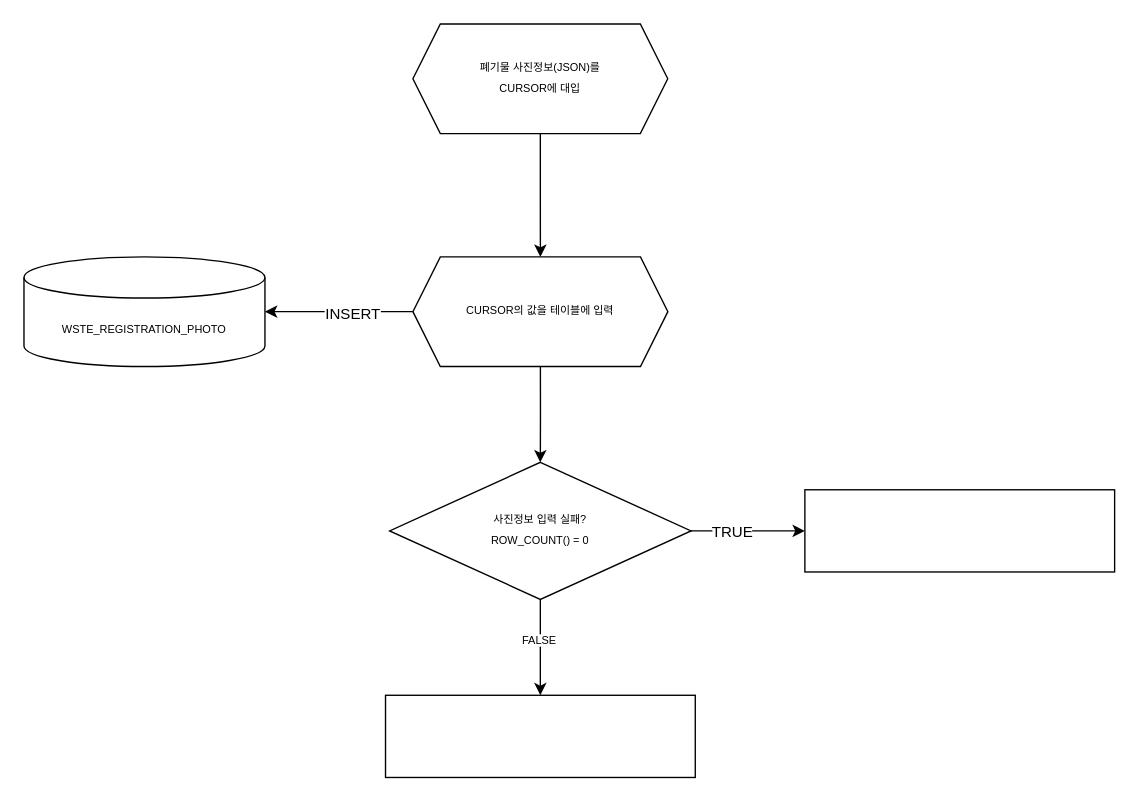
Some shapes in this 1140 by 801 pixel diagram are drawn without their labels. The centre of each missing label's shape, as x and y in pixels:
Return 0: the point at 539,735
Return 22801: the point at 959,530
